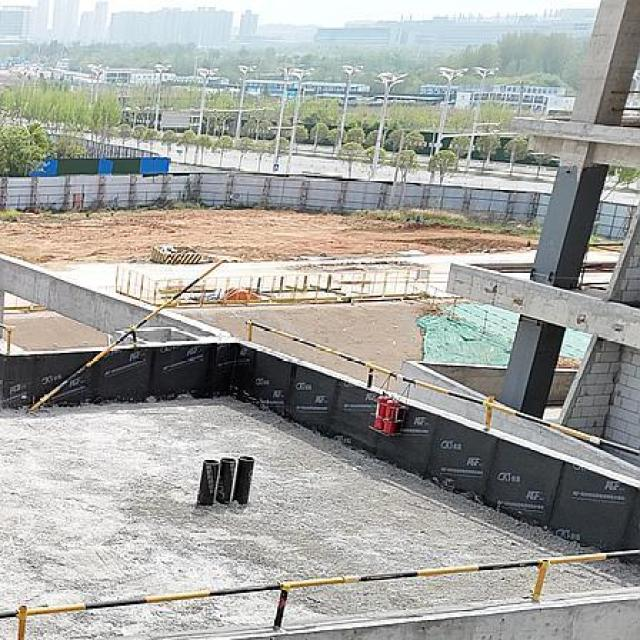edge_guardrail: (0, 547, 640, 640), (244, 319, 640, 460), (28, 257, 228, 414), (577, 243, 624, 291), (605, 89, 640, 127), (0, 323, 13, 354)
